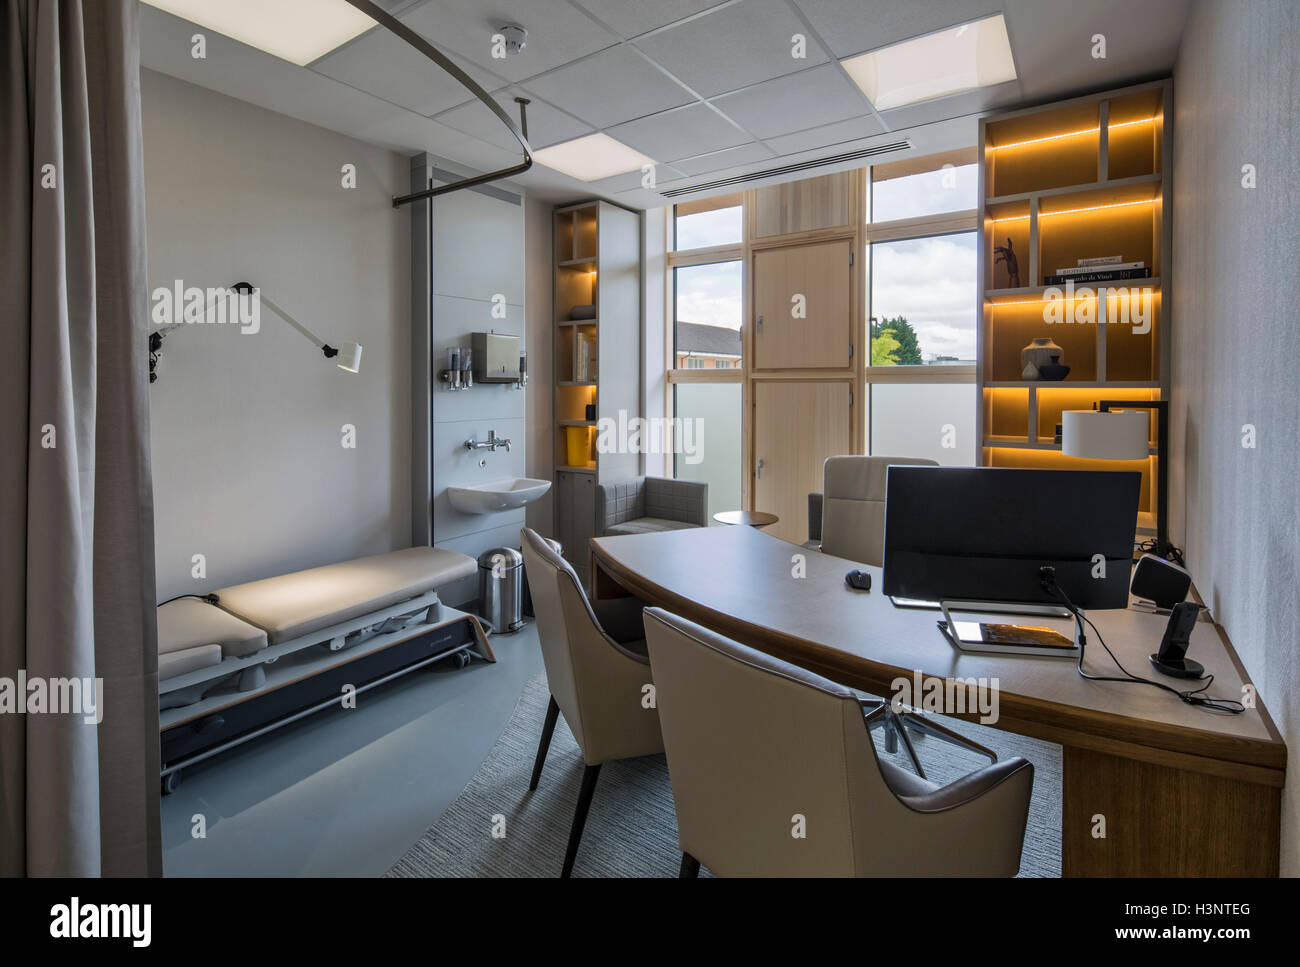chair: (640, 545, 1031, 873), (521, 524, 659, 858), (812, 451, 936, 573)
computer: (876, 460, 1143, 669)
curtain: (1, 1, 158, 874)
dispenser: (464, 323, 531, 392)
exam_table: (109, 546, 484, 781)
faucet: (459, 428, 522, 459)
handle: (756, 450, 767, 481), (755, 314, 768, 340)
mouse: (843, 564, 873, 596)
sink: (443, 471, 549, 519)
sofa: (593, 472, 710, 545)
table: (581, 518, 1300, 872), (712, 506, 781, 537)
waste_bin: (478, 536, 530, 637)
